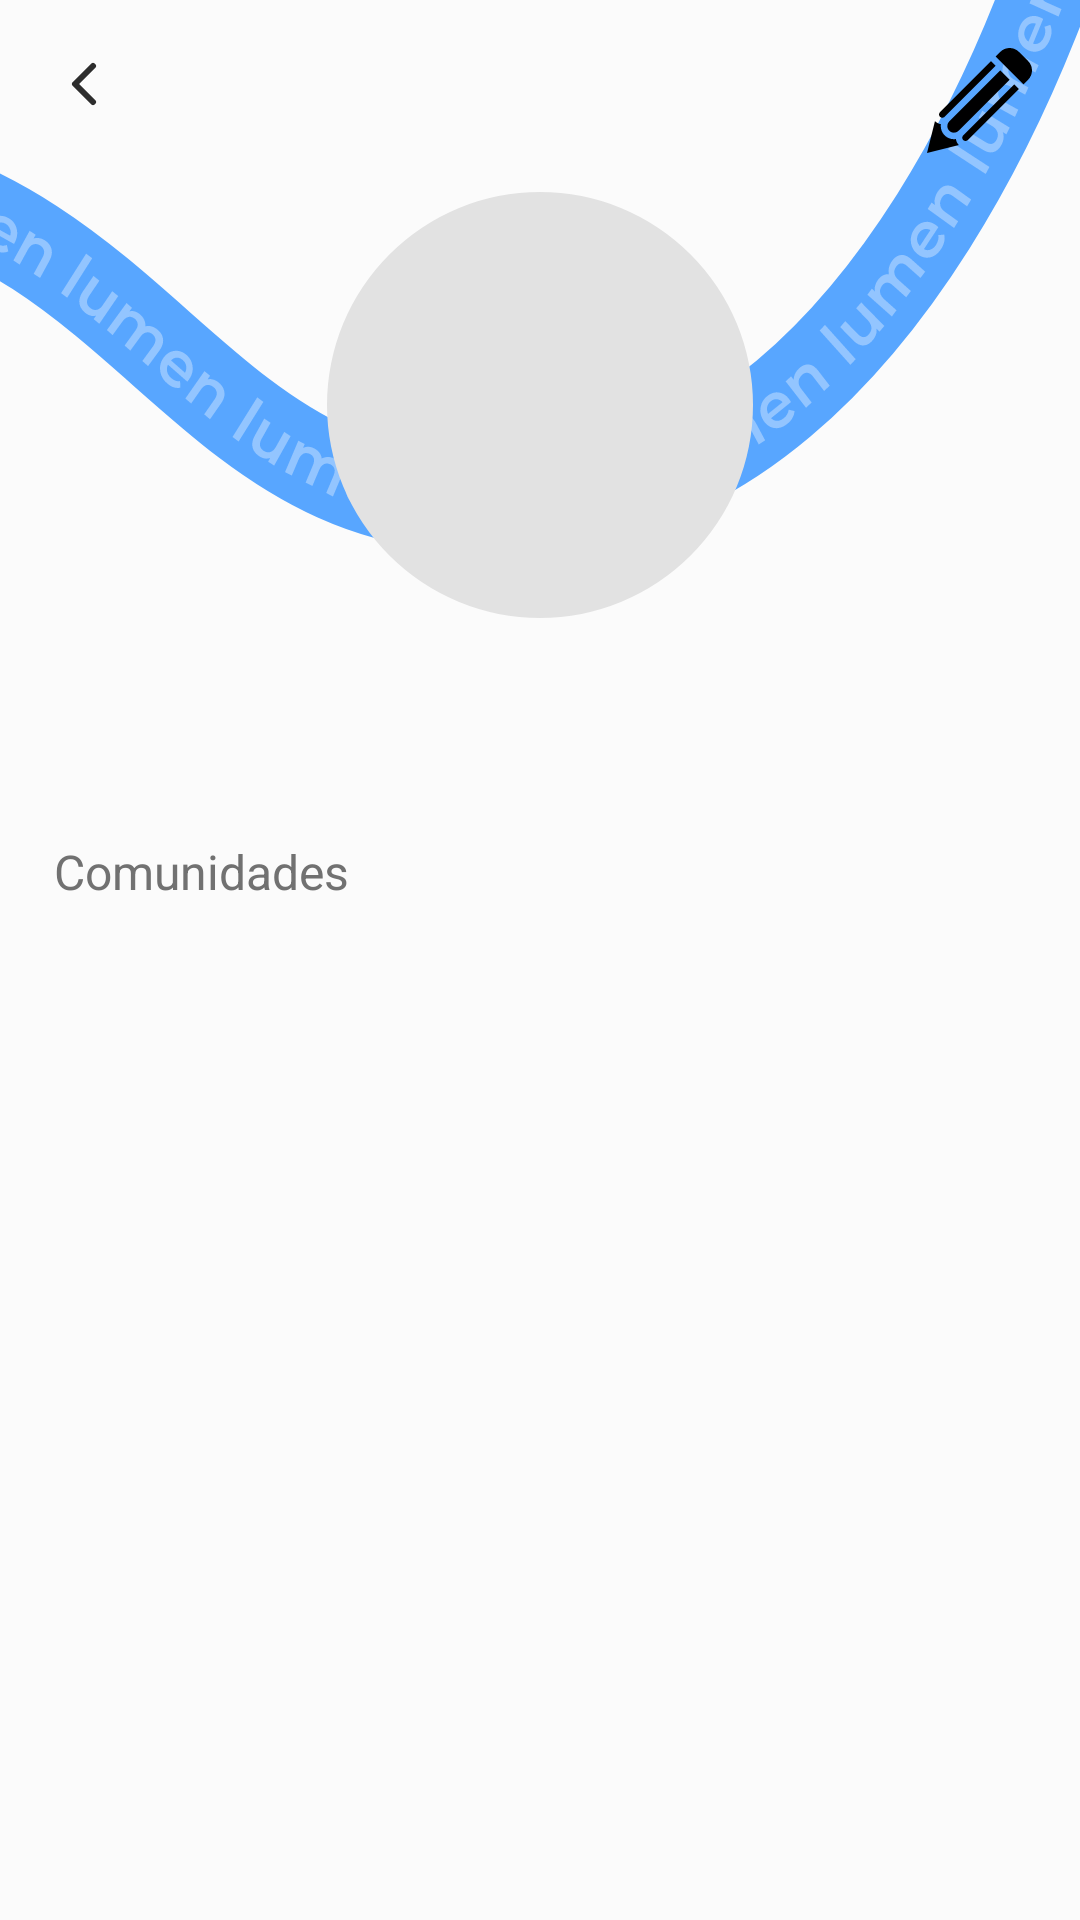

Where to tap for icons on this 1080w x 1920h app screen, as (x,y):
Botão de Voltar: (84,84)
Botão para Editar Perfil: (979,100)
